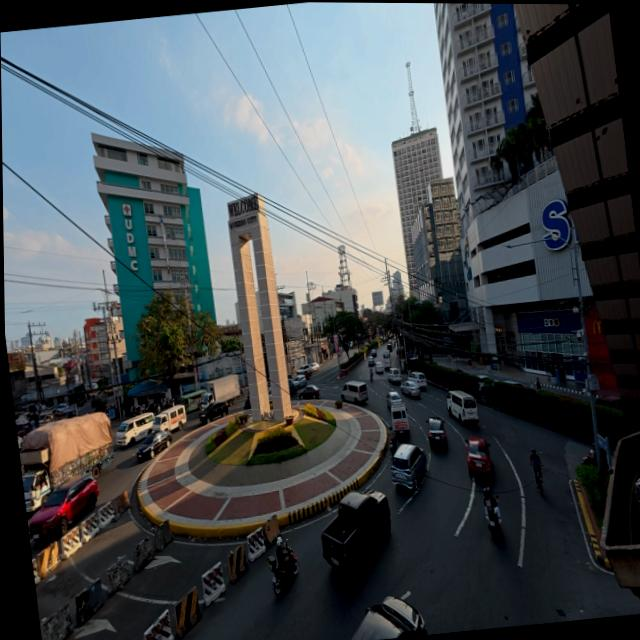car: (30, 475, 98, 539), (353, 597, 427, 639), (392, 444, 427, 489), (137, 430, 172, 460), (466, 437, 491, 477), (199, 402, 229, 424), (427, 417, 448, 446), (401, 380, 421, 397), (478, 375, 493, 395), (299, 385, 320, 399), (386, 392, 402, 407), (298, 364, 313, 378), (293, 375, 307, 389), (39, 412, 54, 425), (503, 380, 529, 387), (63, 404, 77, 417), (56, 403, 68, 414), (288, 378, 296, 394), (17, 436, 24, 450), (375, 362, 383, 373), (368, 356, 374, 367), (311, 363, 319, 371), (268, 386, 272, 401), (371, 350, 376, 358), (387, 343, 392, 351), (349, 342, 353, 349)
motorcycle: (267, 546, 298, 594), (487, 508, 501, 541), (389, 437, 397, 456), (602, 450, 608, 475), (244, 396, 251, 410), (369, 371, 374, 381)
trucks: (20, 413, 114, 514), (322, 491, 391, 576), (201, 375, 240, 408)
vans: (116, 412, 154, 446), (447, 390, 479, 423), (152, 405, 186, 431), (391, 402, 409, 436), (341, 382, 368, 404), (408, 372, 427, 390), (387, 368, 401, 383)
